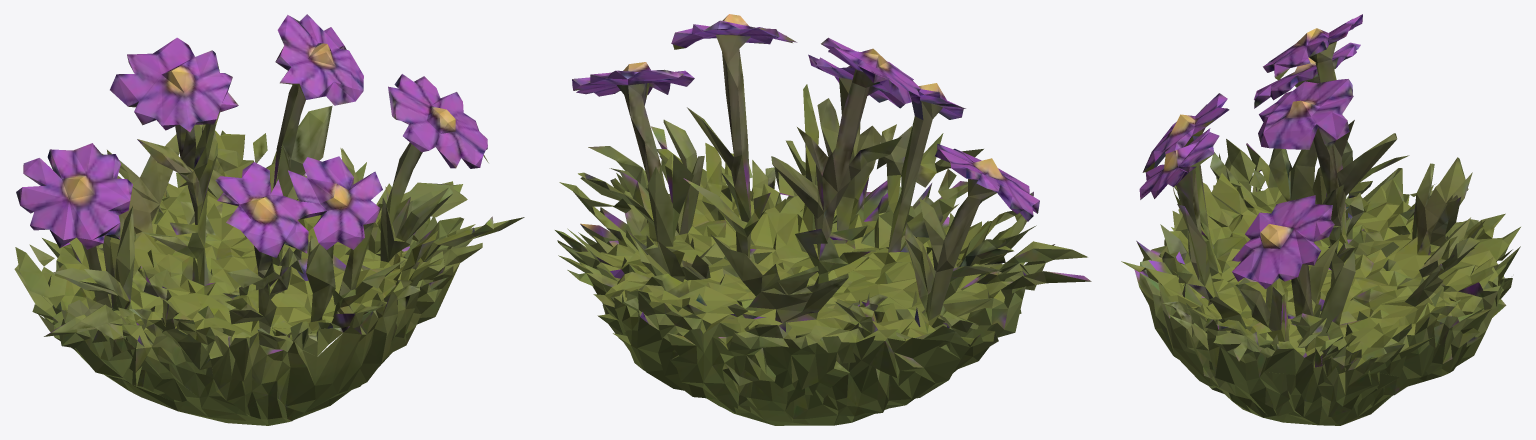
The model's file is flower_a_pink.glb.
3 renders of one model, left to right at view 1: azimuth 30°, elevation 25°; view 2: azimuth 150°, elevation 25°; view 3: azimuth 270°, elevation 25°, orthographic. The views are drawn at different scales.
Visible parts, largest first — view 1: geometry_0; view 2: geometry_0; view 3: geometry_0.
Boxes of the visible parts, left/top/right/bottom form: geometry_0: left=14, top=14, right=524, bottom=425; geometry_0: left=555, top=14, right=1091, bottom=425; geometry_0: left=1121, top=14, right=1520, bottom=425.
Bounding box in the file's own units: 0.8 × 0.5905 × 0.6018.
Materials: 1 (1 with a texture image).
